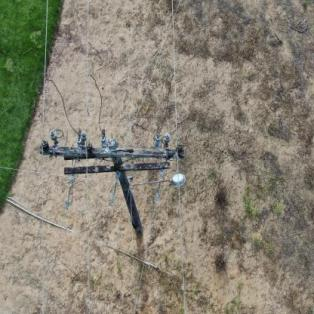Poste: (100, 135, 148, 240)
